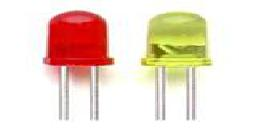LED: (41, 8, 114, 121), (141, 12, 212, 120)
